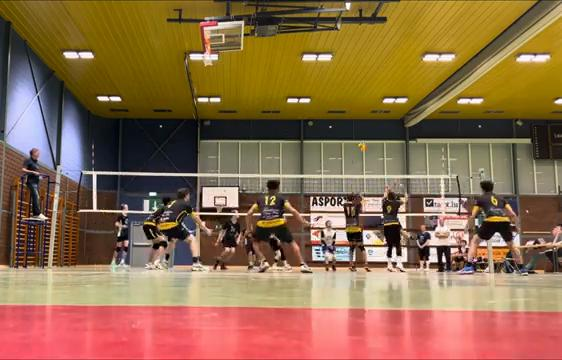Block: (375, 181, 408, 273), (339, 189, 373, 273)
Player: (459, 180, 527, 275), (246, 180, 311, 272), (158, 188, 211, 270), (143, 197, 171, 269), (213, 210, 240, 269), (111, 204, 128, 265), (269, 236, 291, 271), (320, 220, 335, 270), (243, 229, 256, 270)
ball: (356, 142, 368, 153)
